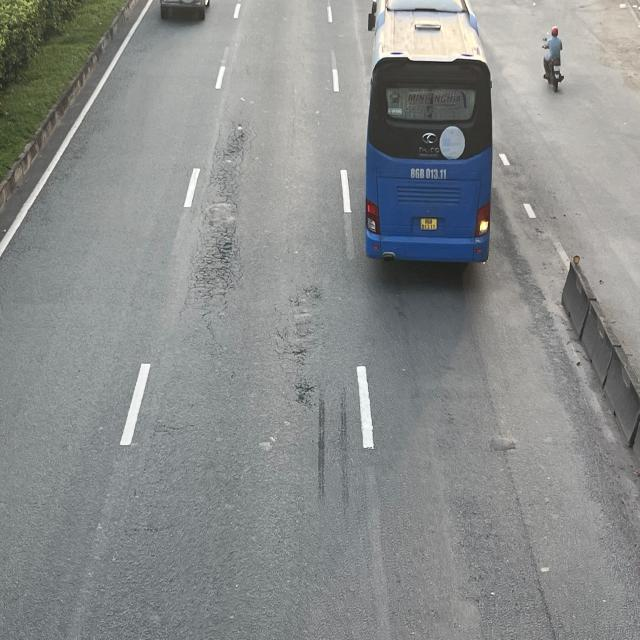coach: (364, 1, 495, 268)
